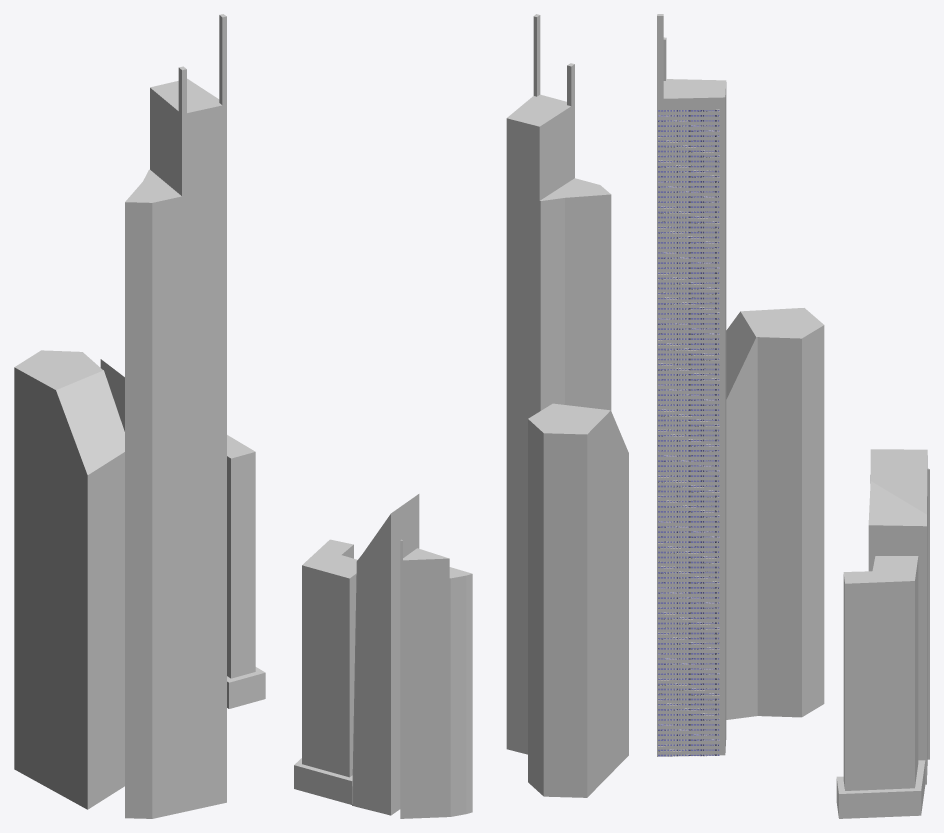
The model's file is WesteriaIslandBuildings.fbx.
The picture shows the model from 3 angles, left to right: view 1: azimuth 30°, elevation 25°; view 2: azimuth 150°, elevation 25°; view 3: azimuth 270°, elevation 25°; orthographic projection. The views are drawn at different scales.
Visible parts, largest first — view 1: Vert.004, Vert.003, Vert.002, Vert.001; view 2: Vert.004, Vert.003, Vert, Vert.001, Vert.002; view 3: Vert.004, Vert.003, Vert.002, Window, Vert.001, Vert.
Part boxes in pixels (x1,y1,x2,y2): Vert.004: [125, 14, 226, 818]; Vert.003: [14, 350, 124, 809]; Vert.002: [227, 435, 265, 708]; Vert.001: [100, 359, 124, 431]; Vert.004: [506, 14, 611, 754]; Vert.003: [528, 403, 628, 797]; Vert: [400, 539, 472, 818]; Vert.001: [352, 494, 419, 815]; Vert.002: [294, 539, 357, 804]; Vert.004: [657, 14, 726, 756]; Vert.003: [726, 308, 824, 719]; Vert.002: [836, 556, 925, 818]; Window: [658, 109, 719, 756]; Vert.001: [868, 449, 927, 784]; Vert: [927, 468, 929, 759].
Size of what is drawn, in the model's own units: 32060 by 89333 by 29822.
